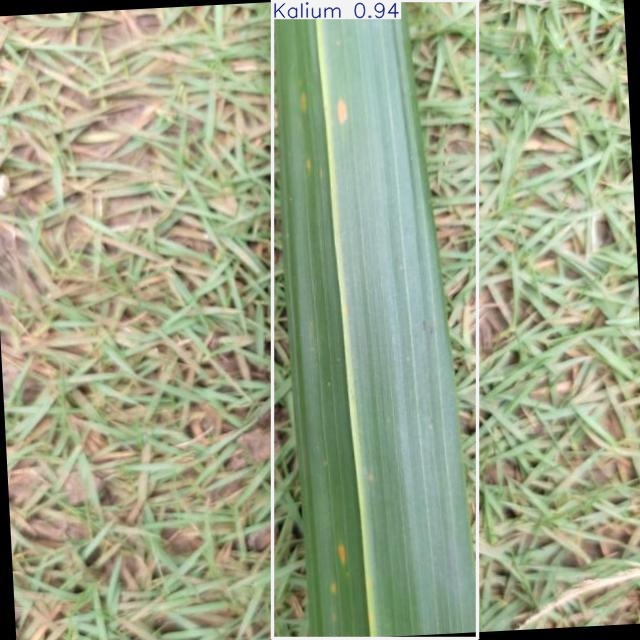Kalium: (273, 1, 477, 639)
